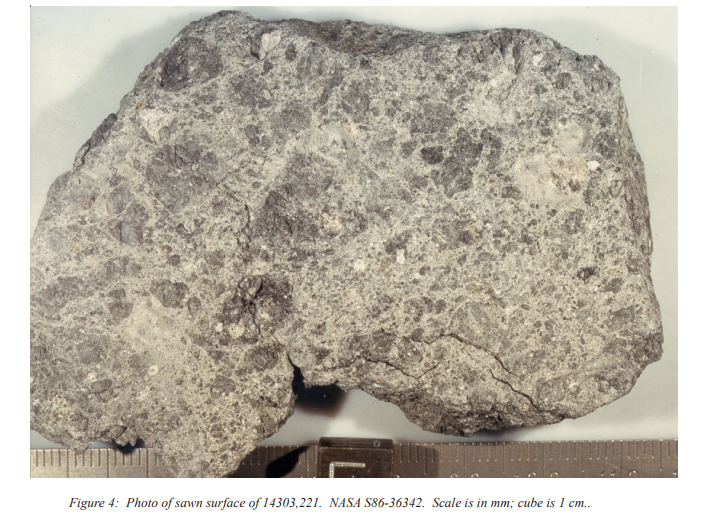Breccia: (219, 34, 663, 427), (175, 44, 576, 373), (20, 73, 225, 464)
